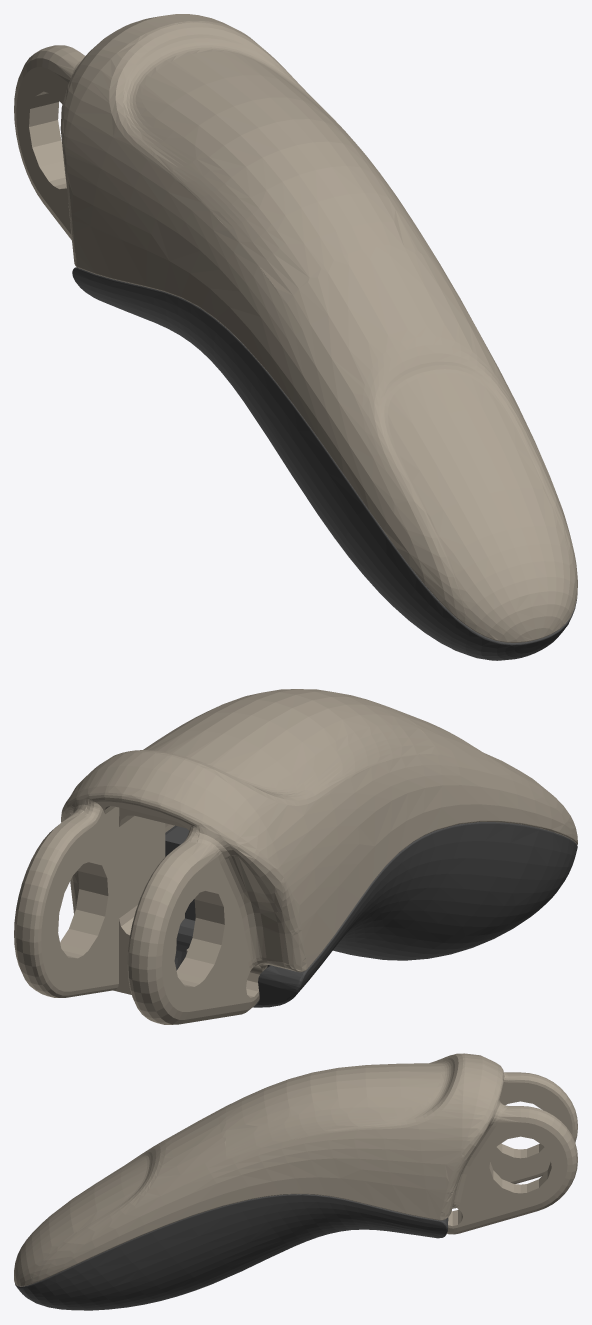
The model's file is hand2_link_2_2_visuals.obj.
The picture shows the model from 3 angles, top to bottom: view 1: azimuth 30°, elevation 25°; view 2: azimuth 150°, elevation 25°; view 3: azimuth 270°, elevation 25°; orthographic projection. The views are drawn at different scales.
Size of the model in its own units: 0.0158 by 0.0257 by 0.054.
